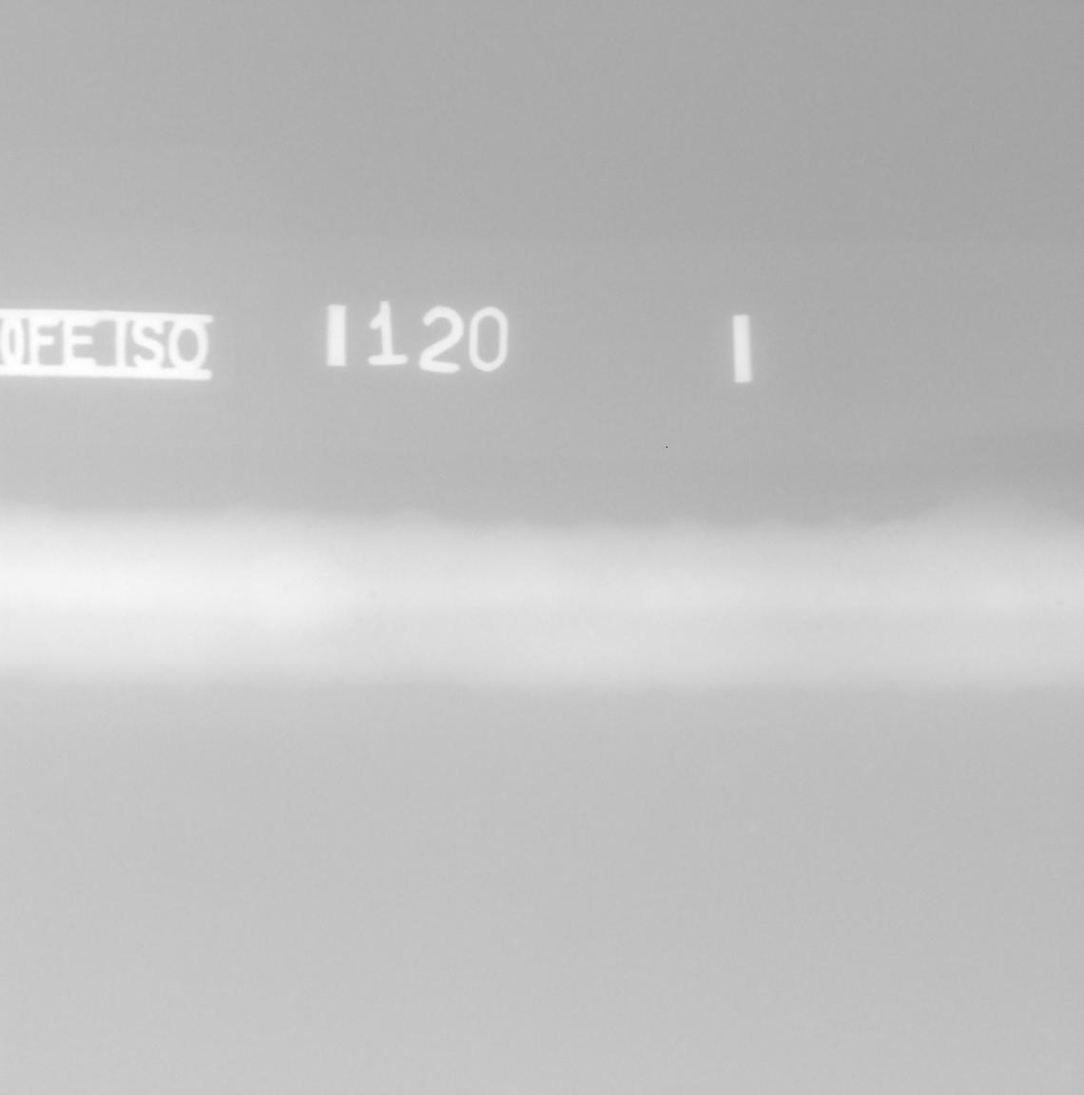Pore/Porosity: (1054, 601, 1066, 605), (368, 592, 376, 598)
